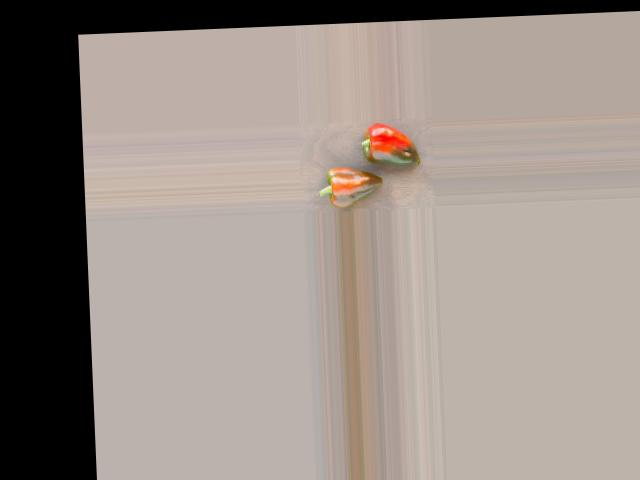bell_pepper: (339, 119, 423, 170)
